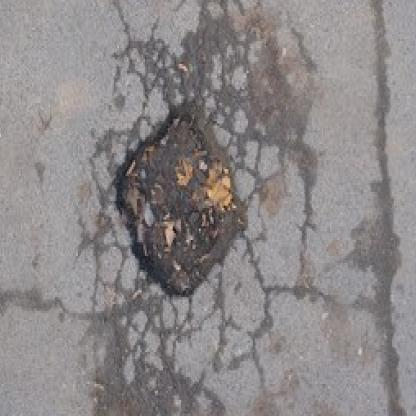pothole: (113, 101, 247, 300)
